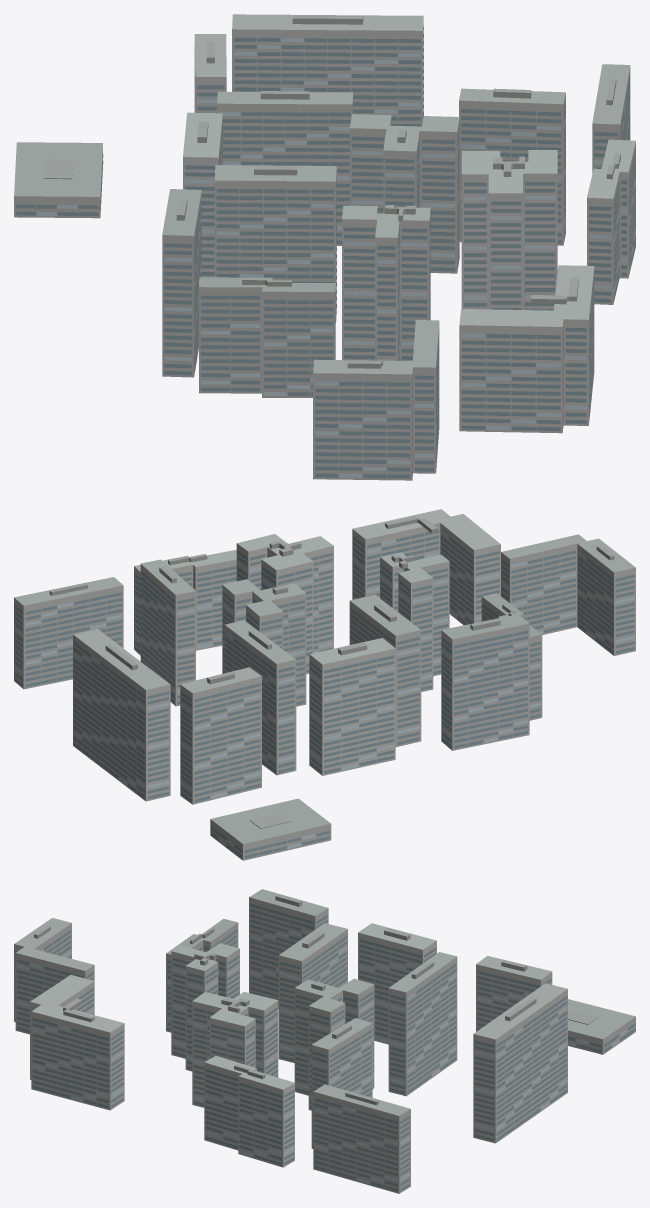
File: apt-a15685206.glb
3 views of the same model, one above another, from view 1: azimuth 30°, elevation 25°; view 2: azimuth 150°, elevation 25°; view 3: azimuth 270°, elevation 25° (orthographic). The views are drawn at different scales.
Visible parts, largest first — view 1: apt-a15685206; view 2: apt-a15685206; view 3: apt-a15685206.
Part boxes in pixels (x1,y1,x2,y2): apt-a15685206: (14, 14, 635, 480); apt-a15685206: (14, 509, 635, 860); apt-a15685206: (14, 889, 635, 1193).
Size of the model in its own units: 253 by 63.4 by 331.
